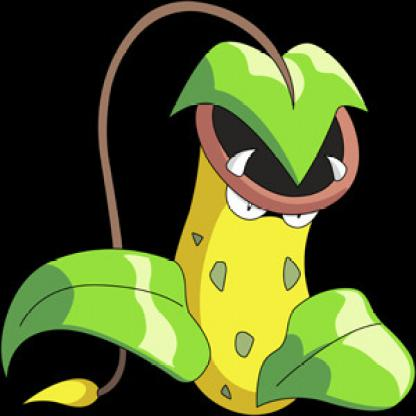Victreebel: (4, 18, 416, 410)
